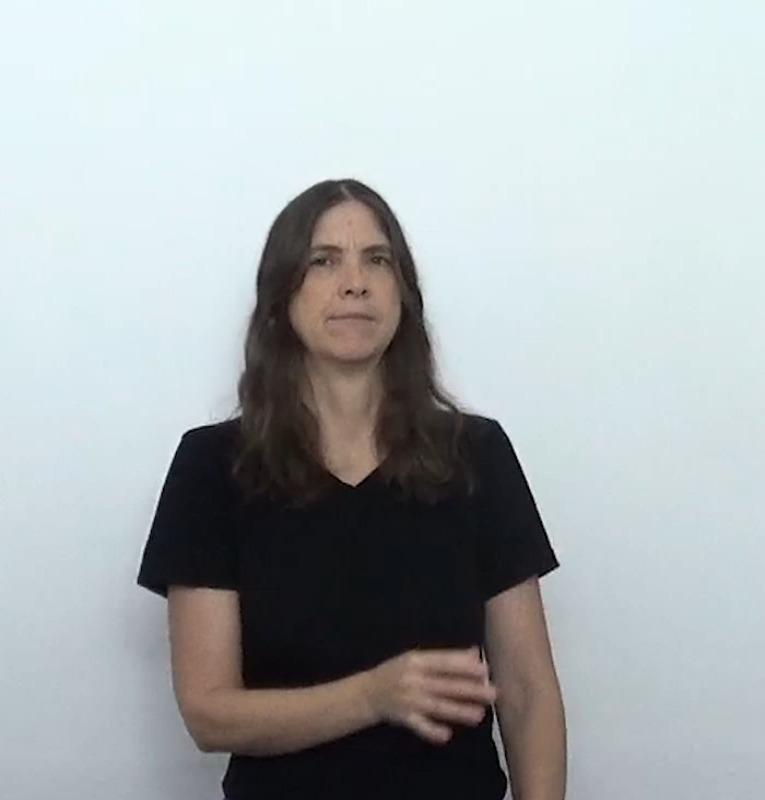Dolor: (138, 140, 566, 768)
